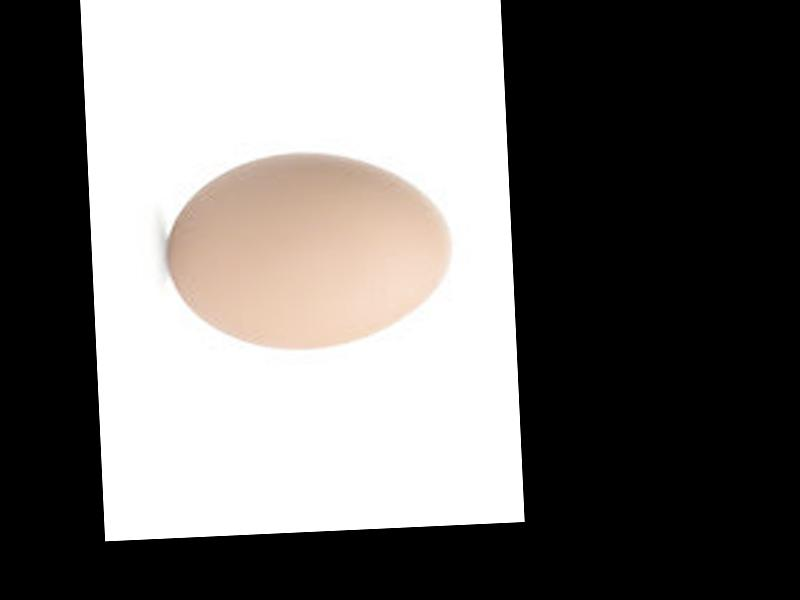Eggs: (160, 146, 452, 353)
